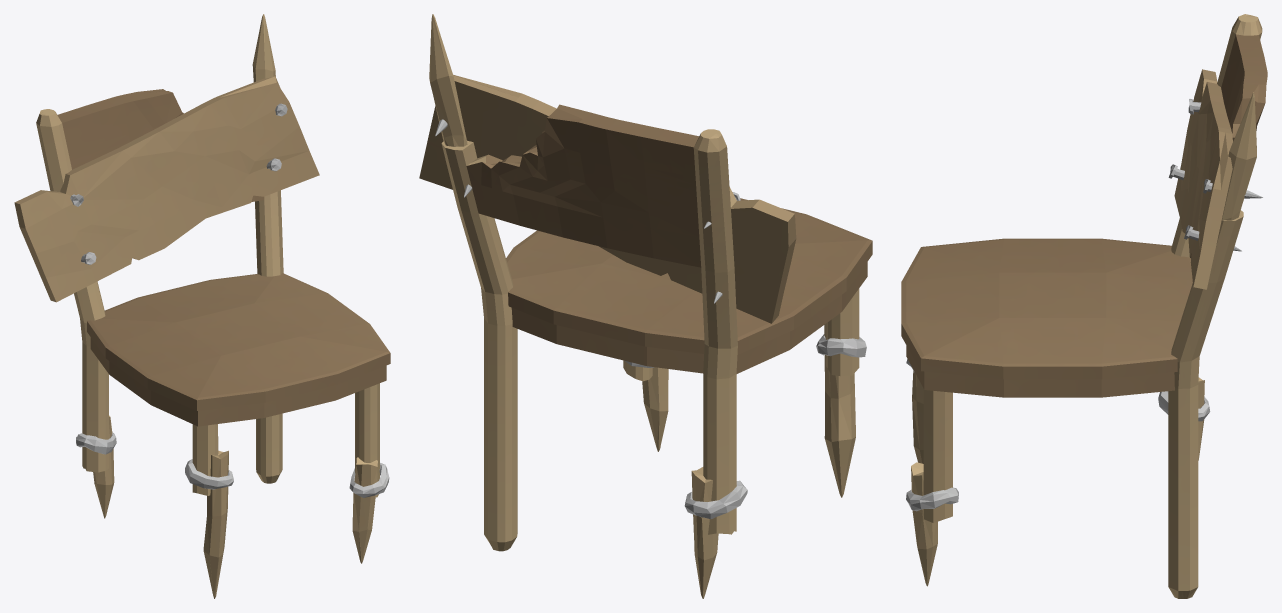
Rendered from chair_repaired_2.dae.
3 views of the same model, side by side, from view 1: azimuth 30°, elevation 25°; view 2: azimuth 150°, elevation 25°; view 3: azimuth 270°, elevation 25° (orthographic). The views are drawn at different scales.
Parts seen in each view (by area): view 1: chair_repaired_2; view 2: chair_repaired_2; view 3: chair_repaired_2.
Part boxes in pixels (left/top/right/bottom): chair_repaired_2: left=14, top=14, right=390, bottom=598; chair_repaired_2: left=419, top=14, right=872, bottom=598; chair_repaired_2: left=901, top=14, right=1267, bottom=598.
Size of the model in its own units: 0.5916 by 0.5374 by 0.8374.
